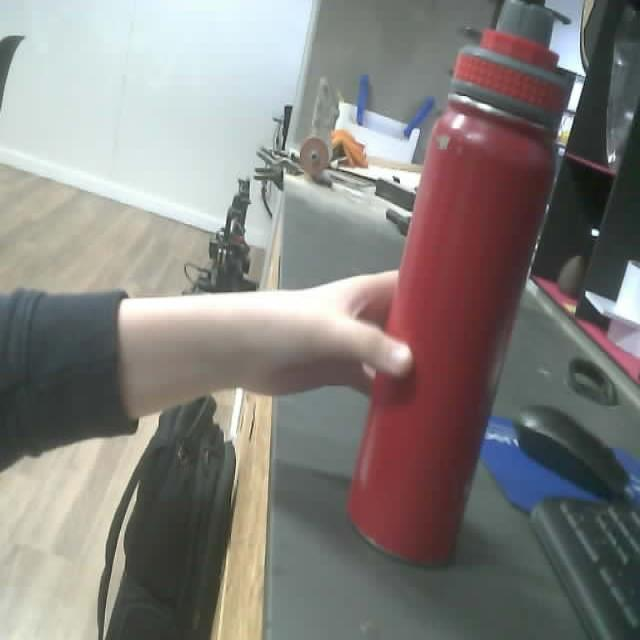water bottle: (343, 1, 577, 567)
